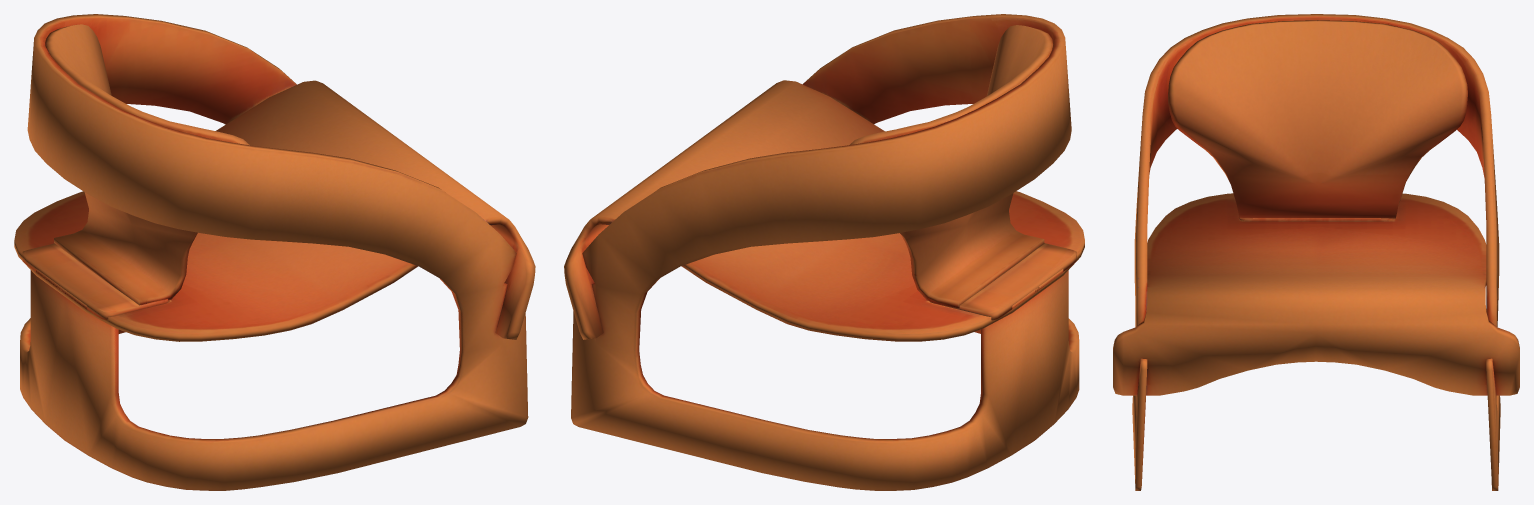
File: orange_simple.glb
The picture shows the model from 3 angles, left to right: view 1: azimuth 30°, elevation 25°; view 2: azimuth 150°, elevation 25°; view 3: azimuth 270°, elevation 25°; orthographic projection. The views are drawn at different scales.
Parts seen in each view (by area): view 1: tripo_node_7342a204-8f87-4a8e-82c1-3178c215b95c; view 2: tripo_node_7342a204-8f87-4a8e-82c1-3178c215b95c; view 3: tripo_node_7342a204-8f87-4a8e-82c1-3178c215b95c.
Boxes of the visible parts, x1,y1,x2,y2 form: tripo_node_7342a204-8f87-4a8e-82c1-3178c215b95c: [14, 14, 535, 490]; tripo_node_7342a204-8f87-4a8e-82c1-3178c215b95c: [564, 14, 1084, 490]; tripo_node_7342a204-8f87-4a8e-82c1-3178c215b95c: [1113, 14, 1519, 490].
Bounding box in the file's own units: 0.9434 × 0.8691 × 0.998.
Materials: 1 (1 with a texture image).
